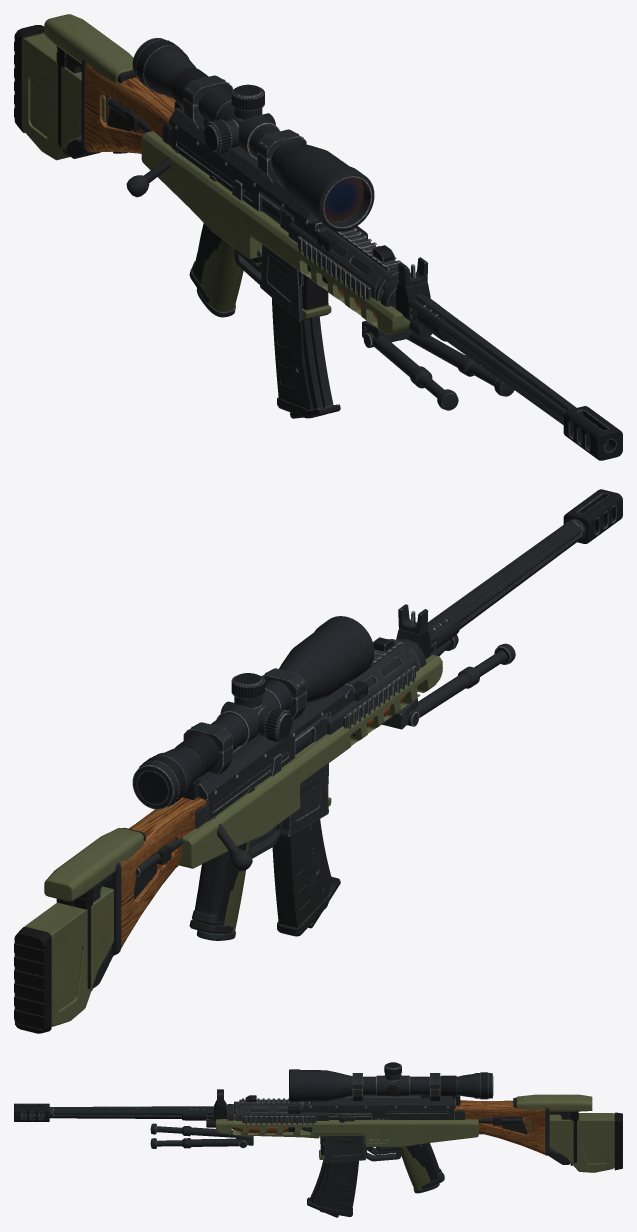
File: guns_hd.glb
The picture shows the model from 3 angles, top to bottom: view 1: azimuth 30°, elevation 25°; view 2: azimuth 150°, elevation 25°; view 3: azimuth 270°, elevation 25°; orthographic projection. The views are drawn at different scales.
Parts seen in each view (by area): view 1: l40, ks, ar5; view 2: l40, ks, ar5, p9; view 3: l40, ks, ar5, p9.
Part boxes in pixels (x1,y1,x2,y2): l40: (14,14,622,460); ks: (81,59,455,418); ar5: (56,46,418,418); l40: (14,489,622,1033); ks: (102,604,460,955); ar5: (56,637,436,990); p9: (191,839,254,925); l40: (14,1062,622,1193); ks: (182,1089,549,1217); ar5: (185,1095,578,1216); p9: (376,1143,442,1180).
Size of the model in its own units: 0.1172 by 0.324 by 1.19.
Materials: 4 (4 with a texture image).
